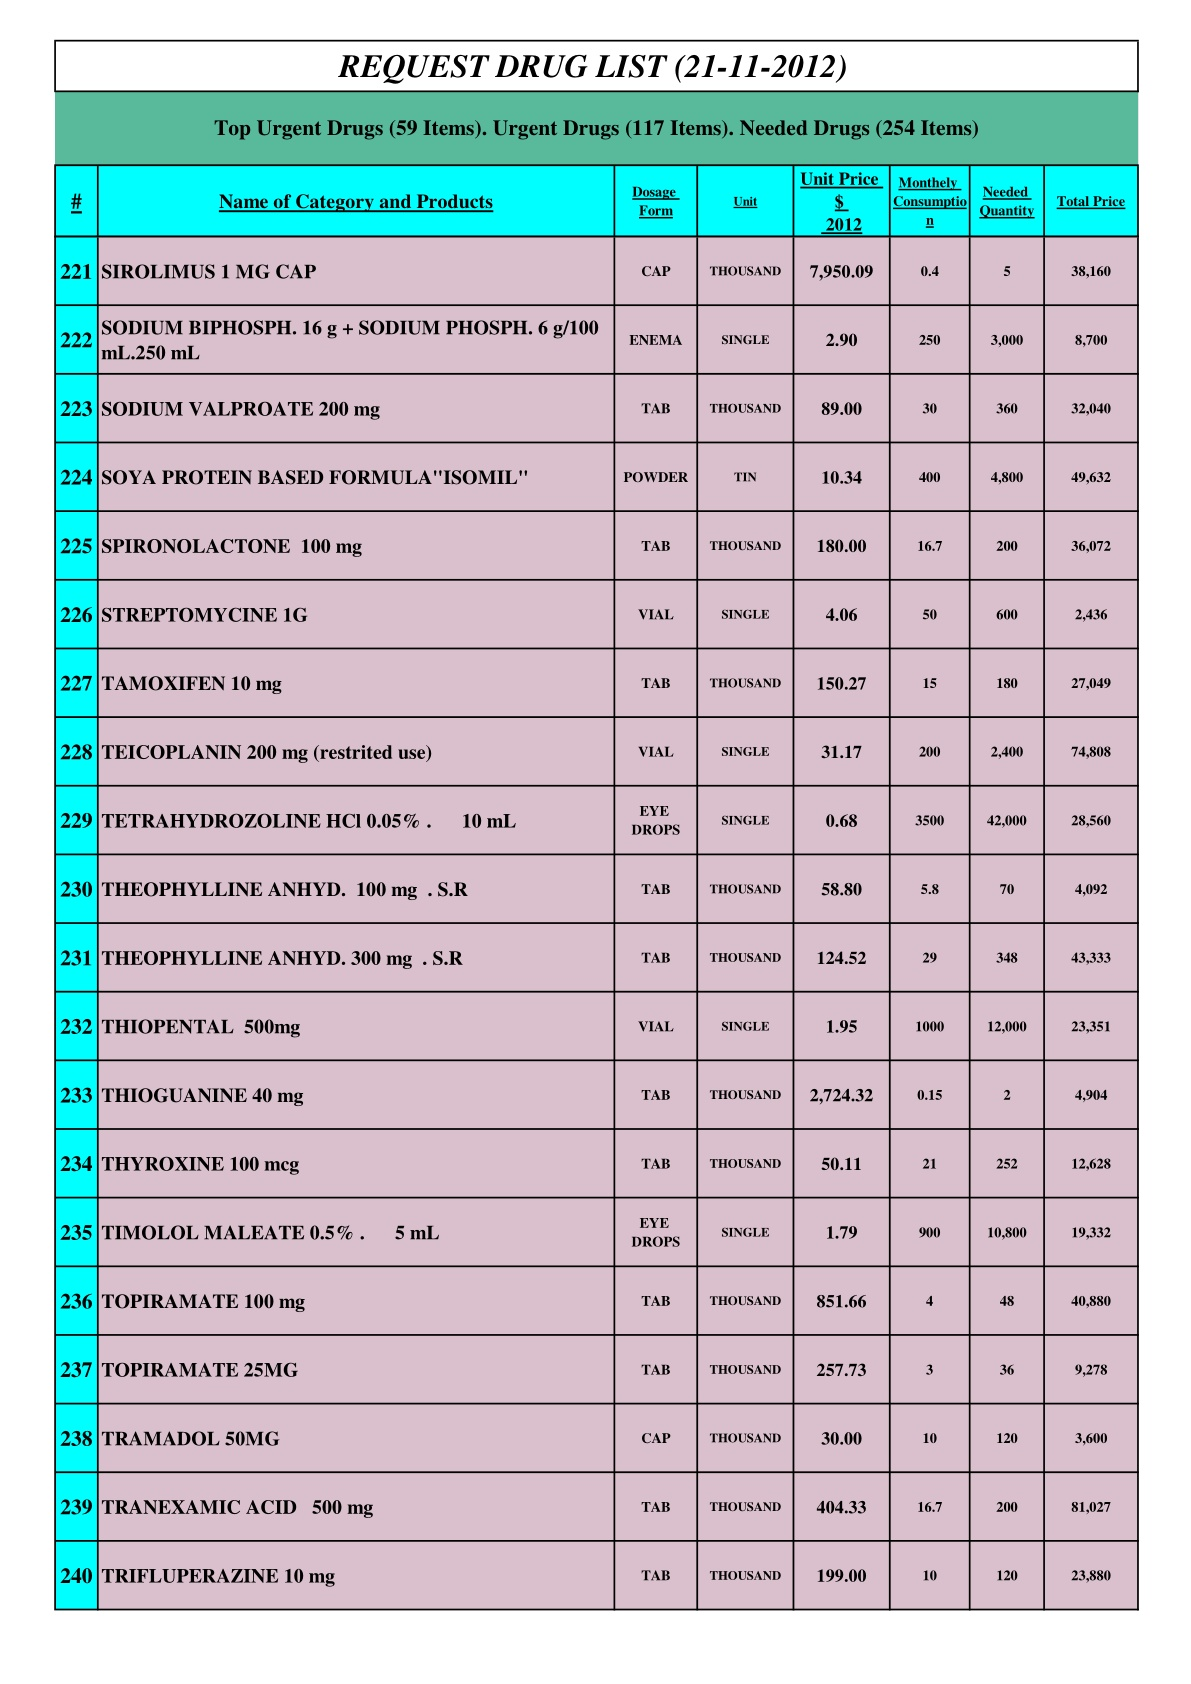merged_cells: (53, 39, 1139, 1611)
